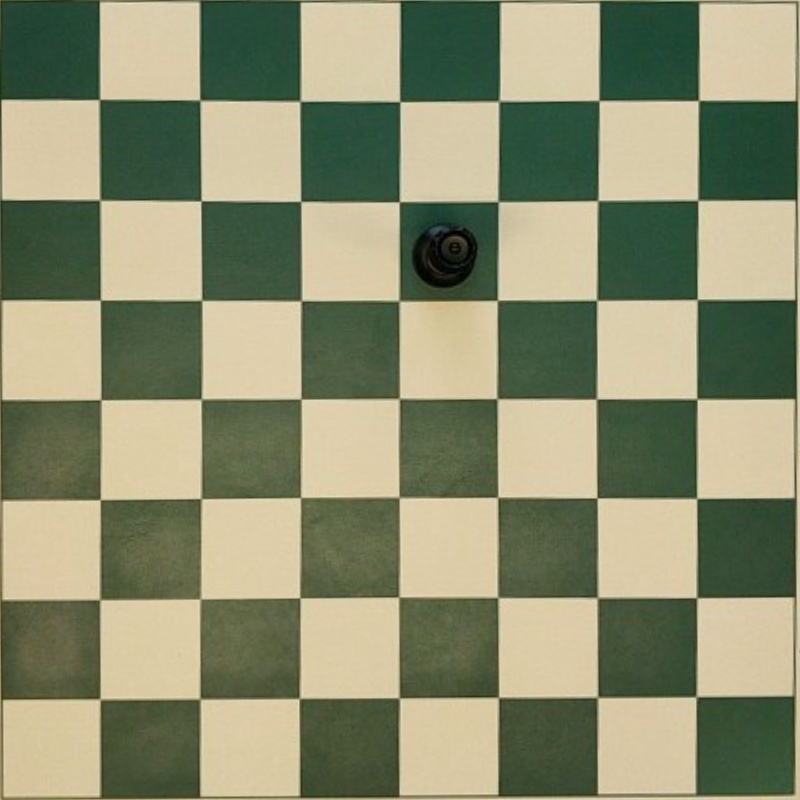black-queen: (414, 226, 477, 287)
